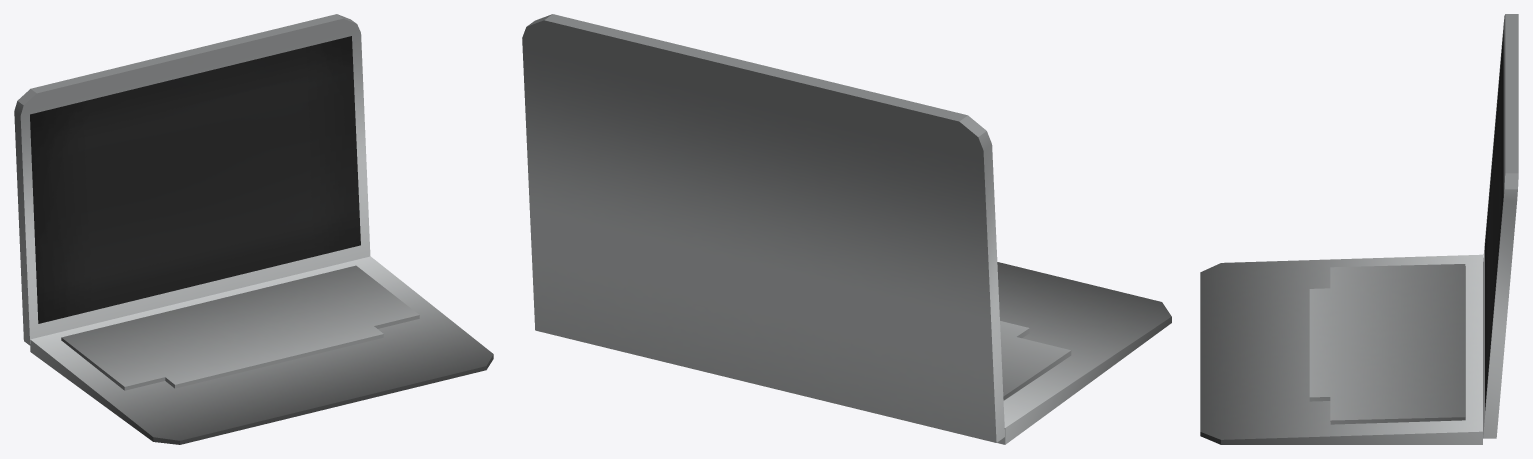
The model's file is Laptop_Off.fbx.
3 views of the same model, side by side, from view 1: azimuth 30°, elevation 25°; view 2: azimuth 150°, elevation 25°; view 3: azimuth 270°, elevation 25° (orthographic). The views are drawn at different scales.
Visible parts, largest first — view 1: Laptop_Off; view 2: Laptop_Off; view 3: Laptop_Off.
Boxes of the visible parts, x1=… form: Laptop_Off: x1=14, y1=14, x2=493, y2=444; Laptop_Off: x1=522, y1=14, x2=1171, y2=444; Laptop_Off: x1=1200, y1=14, x2=1518, y2=444.
Size of the model in its own units: 41.29 by 28.59 by 31.41.
